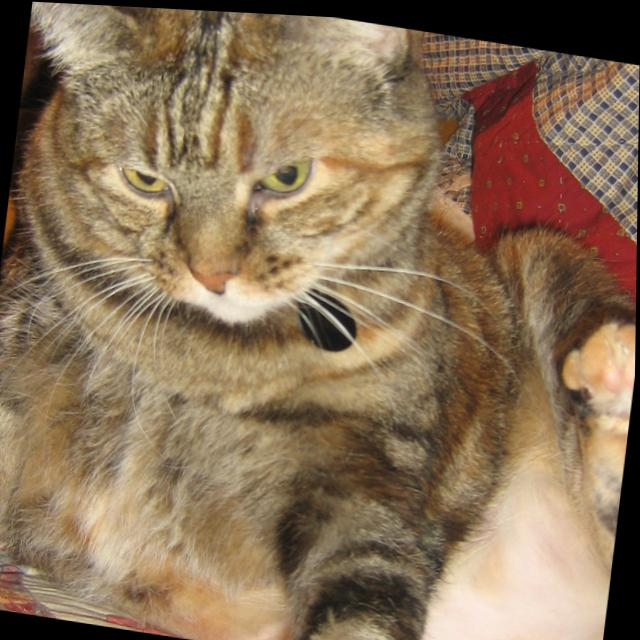animals: (2, 0, 397, 310)
